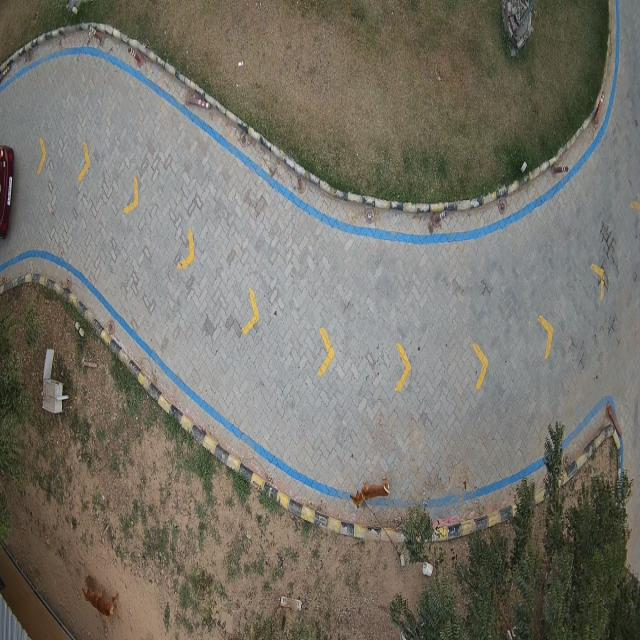car: (0, 147, 14, 237)
